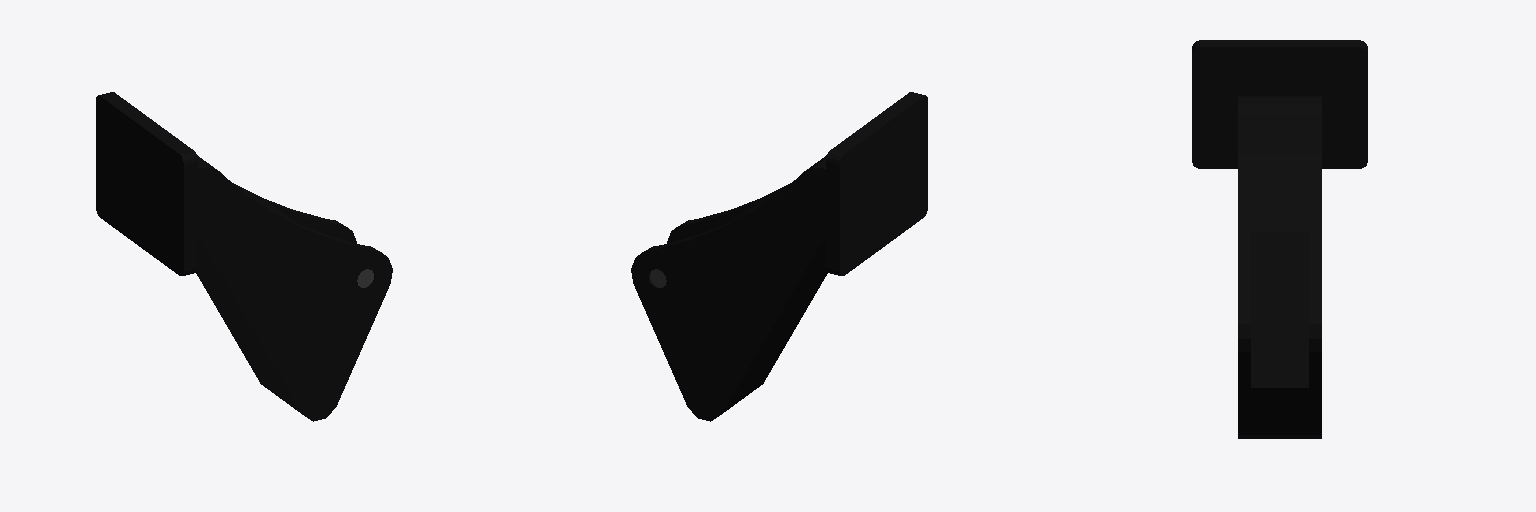
File: ExSupportLegL.obj
3 renders of one model, left to right at view 1: azimuth 30°, elevation 25°; view 2: azimuth 150°, elevation 25°; view 3: azimuth 270°, elevation 25°, orthographic.
Visible parts, largest first — view 1: instance_0_ID5, group_1.001_ID42; view 2: instance_0_ID5, group_1.001_ID42; view 3: instance_0_ID5, group_1.001_ID42.
Part boxes in pixels (bbox=[...]): instance_0_ID5: bbox=[196, 155, 392, 421]; group_1.001_ID42: bbox=[96, 92, 197, 275]; instance_0_ID5: bbox=[631, 155, 827, 421]; group_1.001_ID42: bbox=[826, 92, 927, 275]; instance_0_ID5: bbox=[1238, 96, 1321, 438]; group_1.001_ID42: bbox=[1192, 40, 1367, 168].
Size of the model in its own units: 0.639 by 0.837 by 0.42.